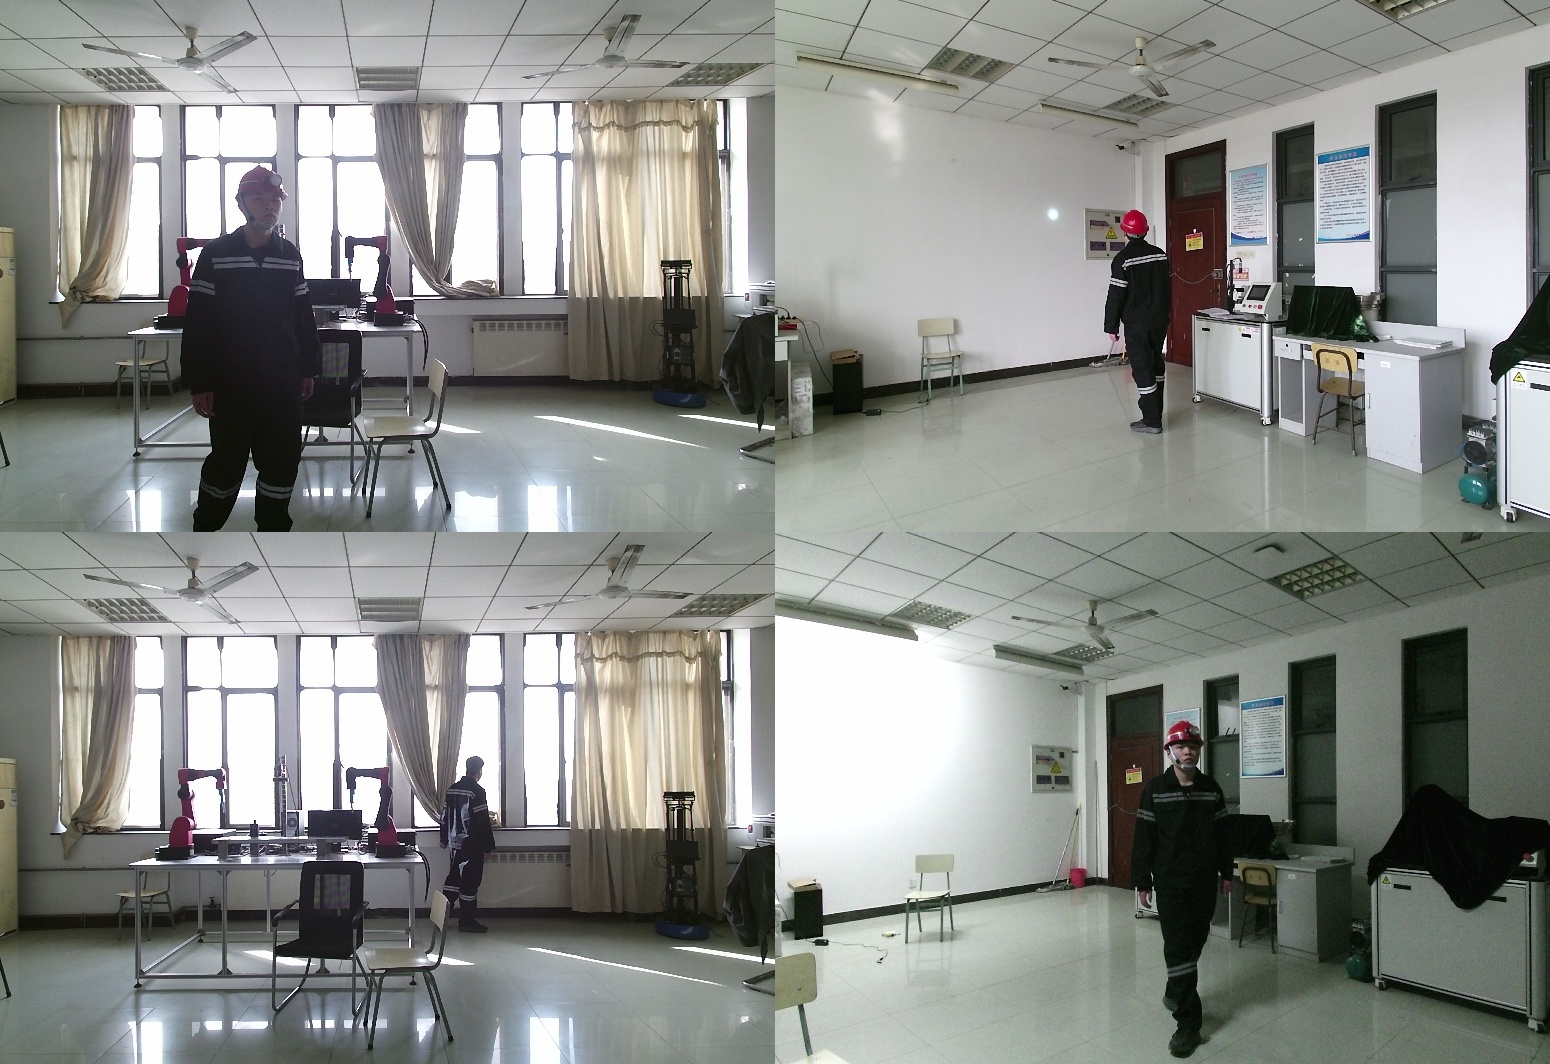person: (183, 167, 328, 532), (1125, 716, 1250, 1053), (1104, 209, 1177, 431), (442, 757, 500, 944)
